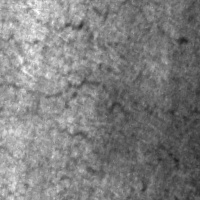crazing: (0, 0, 193, 120), (0, 106, 185, 199)
